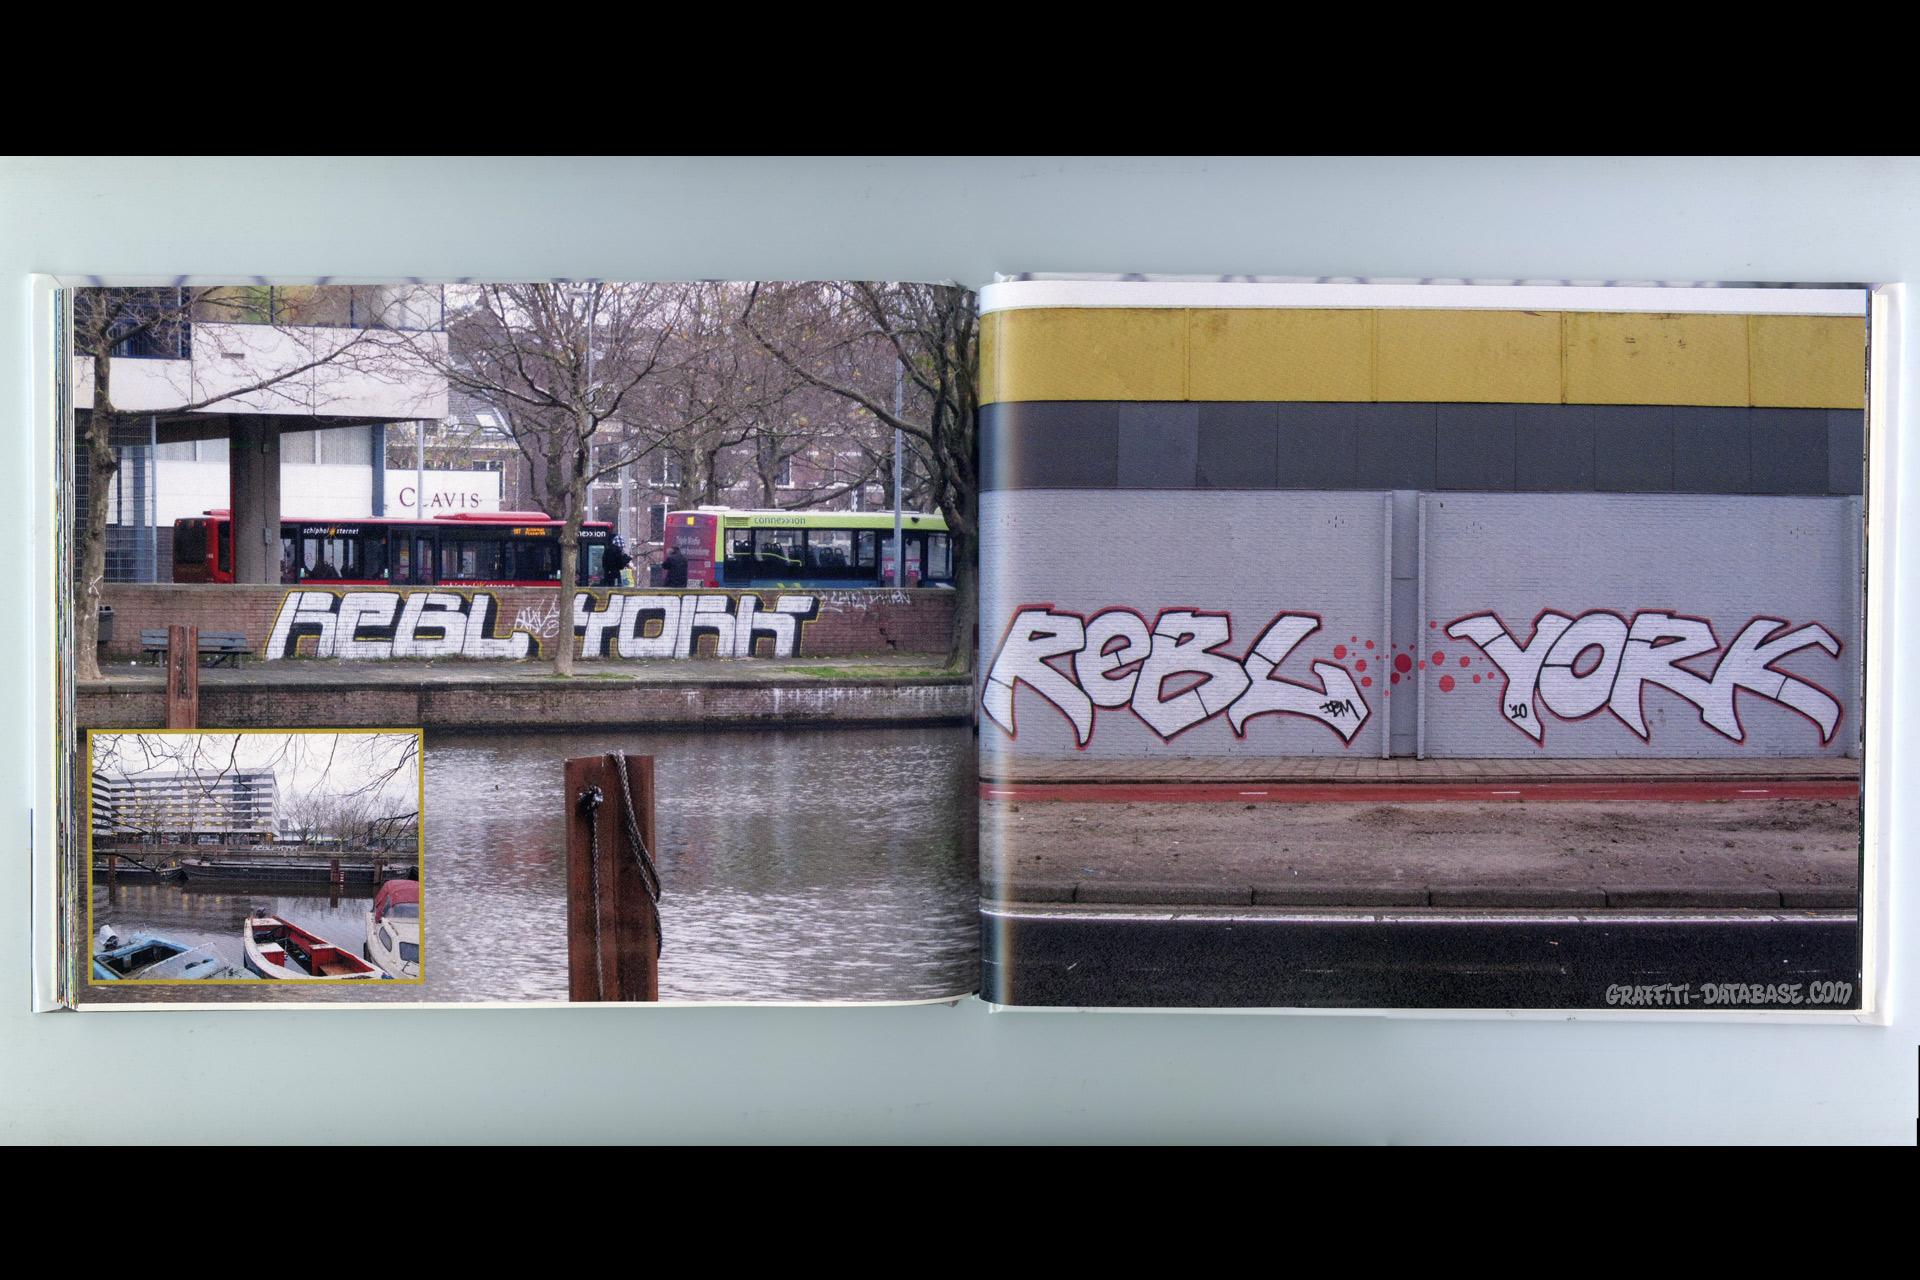graffiti: (981, 609, 1861, 759), (264, 583, 831, 673)
